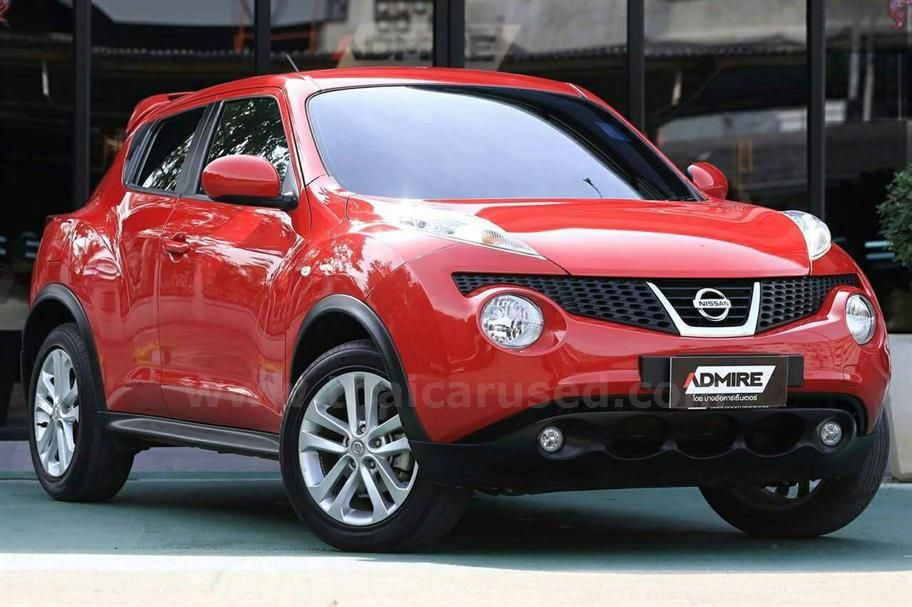sedan: (21, 66, 893, 550)
